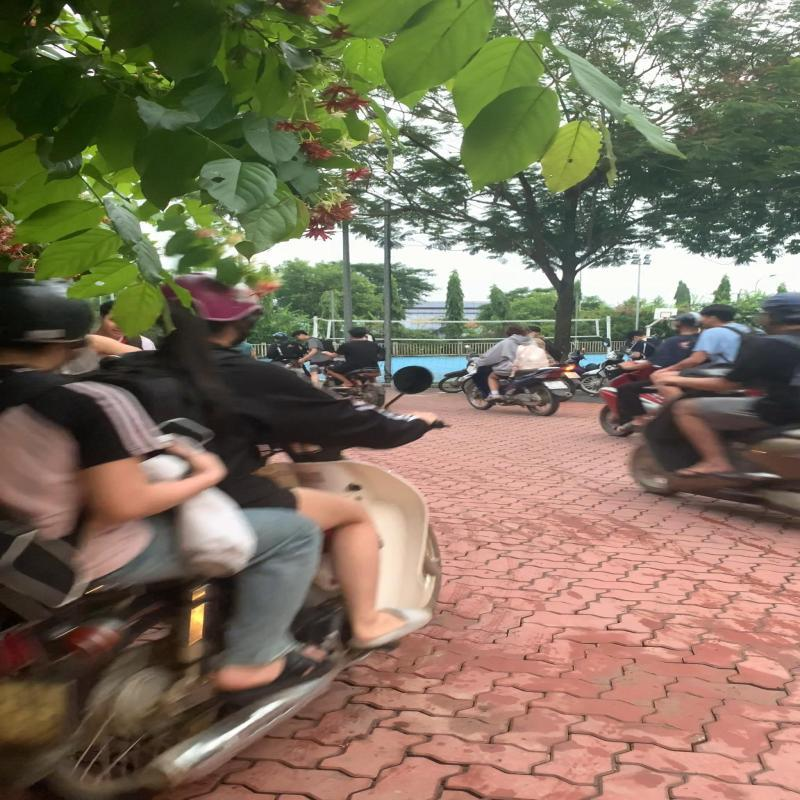licenseplate: (543, 380, 568, 390)
motorcyclist: (464, 322, 575, 417)
nohelmet: (504, 323, 529, 336)
